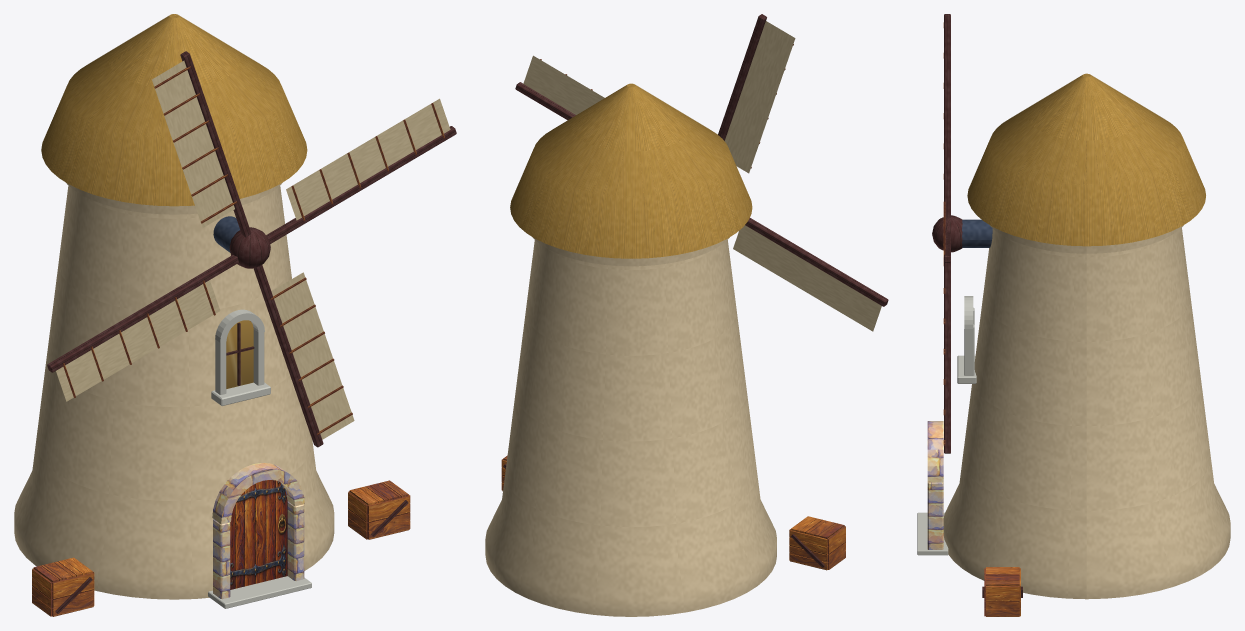
File: Windmill.fbx
3 views of the same model, side by side, from view 1: azimuth 30°, elevation 25°; view 2: azimuth 150°, elevation 25°; view 3: azimuth 270°, elevation 25° (orthographic). The views are drawn at different scales.
Visible parts, largest first — view 1: Tapered masonry windmill tower, Windmill rotating roof cap, Tensioned linen windmill sail, Tensioned linen windmill sail.002, Heavy oak entrance.002, Tensioned linen windmill sail.001, Tensioned linen windmill sail.003, Windmill structural sail spar.002, Load-bearing arch voussoirs.002, Windmill structural sail spar.003, Windmill structural sail spar, Windmill structural sail spar.001 (+10 smaller); view 2: Tapered masonry windmill tower, Windmill rotating roof cap, Tensioned linen windmill sail.001, Tensioned linen windmill sail.002, Tensioned linen windmill sail, Windmill structural sail spar.002, Windmill structural sail spar.001, Windmill structural sail spar; view 3: Tapered masonry windmill tower, Windmill rotating roof cap, Windmill structural sail spar.001, Windmill structural sail spar.003, Arch supporting jamb.005, Load-bearing arch voussoirs.002, Wind shaft bearing, Windmill central hub, Entrance threshold.002, Window jamb.051.
Part boxes in pixels (x1=…): Tapered masonry windmill tower: x1=14, y1=182, x2=334, y2=599; Windmill rotating roof cap: x1=41, y1=14, x2=307, y2=206; Tensioned linen windmill sail: x1=286, y1=98, x2=450, y2=220; Tensioned linen windmill sail.002: x1=56, y1=280, x2=220, y2=401; Heavy oak entrance.002: x1=230, y1=480, x2=287, y2=589; Tensioned linen windmill sail.001: x1=152, y1=60, x2=234, y2=227; Tensioned linen windmill sail.003: x1=271, y1=272, x2=354, y2=439; Windmill structural sail spar.002: x1=47, y1=255, x2=238, y2=372; Load-bearing arch voussoirs.002: x1=212, y1=463, x2=304, y2=524; Windmill structural sail spar.003: x1=253, y1=265, x2=323, y2=447; Windmill structural sail spar: x1=266, y1=126, x2=456, y2=243; Windmill structural sail spar.001: x1=180, y1=51, x2=251, y2=237; Tapered masonry windmill tower: x1=485, y1=237, x2=776, y2=616; Windmill rotating roof cap: x1=510, y1=83, x2=752, y2=258; Tensioned linen windmill sail.001: x1=724, y1=21, x2=795, y2=173; Tensioned linen windmill sail.002: x1=733, y1=225, x2=881, y2=331; Tensioned linen windmill sail: x1=523, y1=55, x2=604, y2=114; Windmill structural sail spar.002: x1=745, y1=218, x2=888, y2=306; Windmill structural sail spar.001: x1=718, y1=14, x2=766, y2=140; Windmill structural sail spar: x1=515, y1=82, x2=575, y2=120; Tapered masonry windmill tower: x1=943, y1=225, x2=1230, y2=599; Windmill rotating roof cap: x1=967, y1=73, x2=1205, y2=246; Windmill structural sail spar.001: x1=944, y1=14, x2=950, y2=216; Windmill structural sail spar.003: x1=944, y1=262, x2=950, y2=453; Arch supporting jamb.005: x1=927, y1=482, x2=943, y2=549; Load-bearing arch voussoirs.002: x1=927, y1=421, x2=943, y2=482; Wind shaft bearing: x1=962, y1=219, x2=992, y2=247; Windmill central hub: x1=932, y1=215, x2=962, y2=252; Entrance threshold.002: x1=917, y1=512, x2=948, y2=555; Window jamb.051: x1=964, y1=324, x2=974, y2=375.
Size of the model in its own units: 953 by 1237 by 708.
